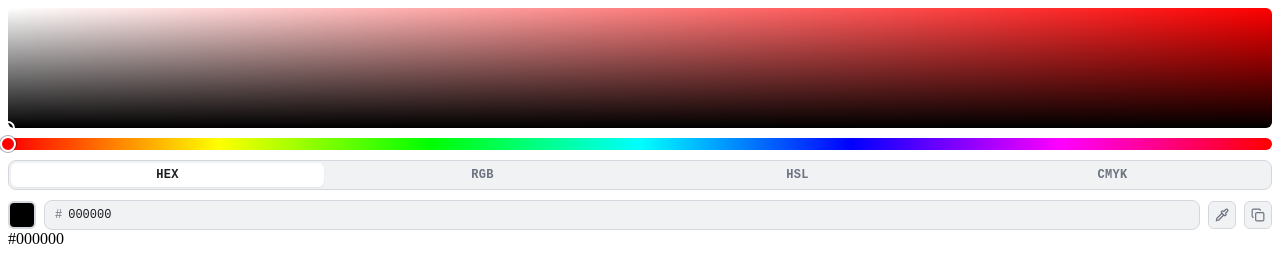
Test: ColorPicker — copy & eyedropper › applies a color picked via the EyeDropper API
This screenshot has width=1280, height=264.
Click the button named "Pick a color from the screen".
click(1222, 215)  # box [1208,201,1236,229]
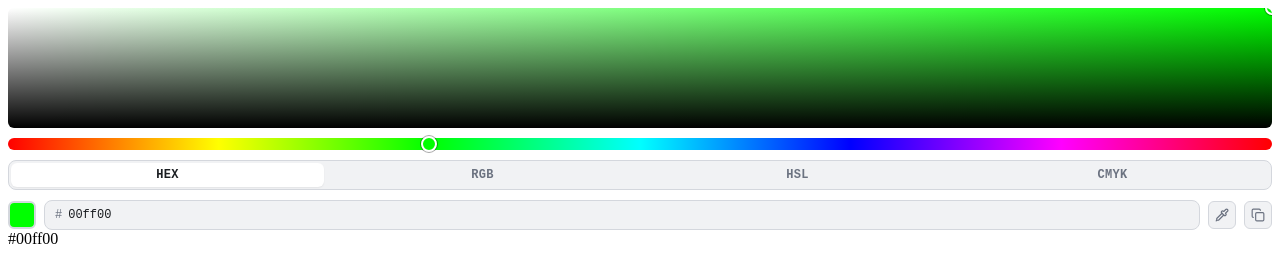
expect the text with test id "color" reads "#00ff00": met, box [8,230,58,247]
